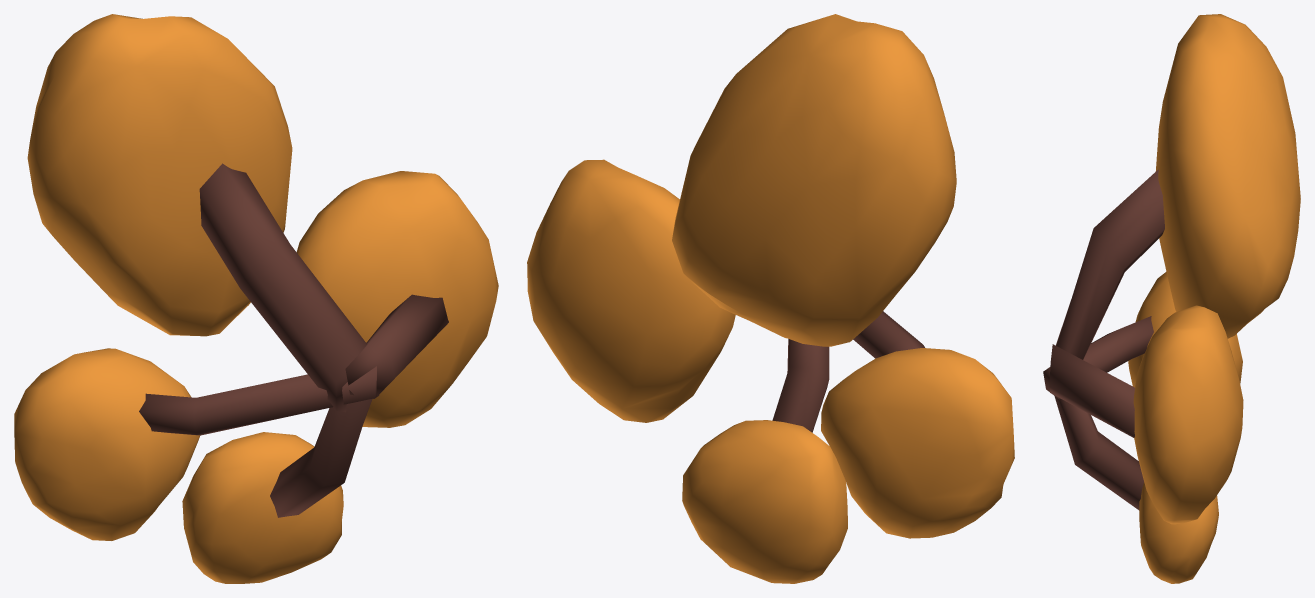
The model's file is BushDesert2.fbx.
3 renders of one model, left to right at view 1: azimuth 30°, elevation 25°; view 2: azimuth 150°, elevation 25°; view 3: azimuth 270°, elevation 25°, orthographic. The views are drawn at different scales.
Visible parts, largest first — view 1: Cube.004; view 2: Cube.004; view 3: Cube.004.
Part boxes in pixels (bbox=[...]): Cube.004: bbox=[14, 14, 498, 583]; Cube.004: bbox=[527, 14, 1014, 583]; Cube.004: bbox=[1043, 14, 1300, 583].
Size of the model in its own units: 482 by 564 by 261.
